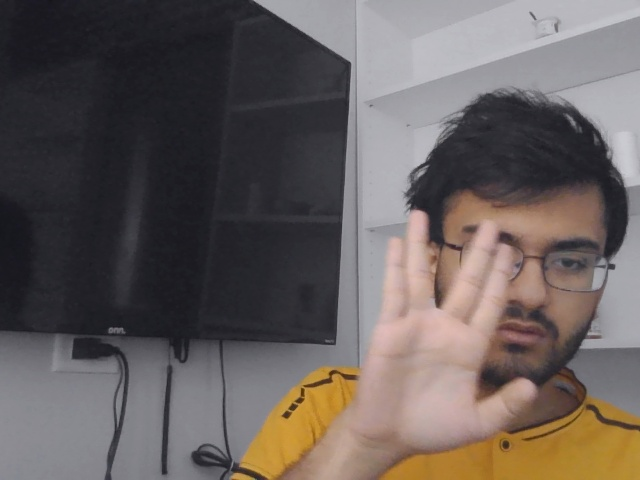LiveLong: (350, 208, 539, 454)
